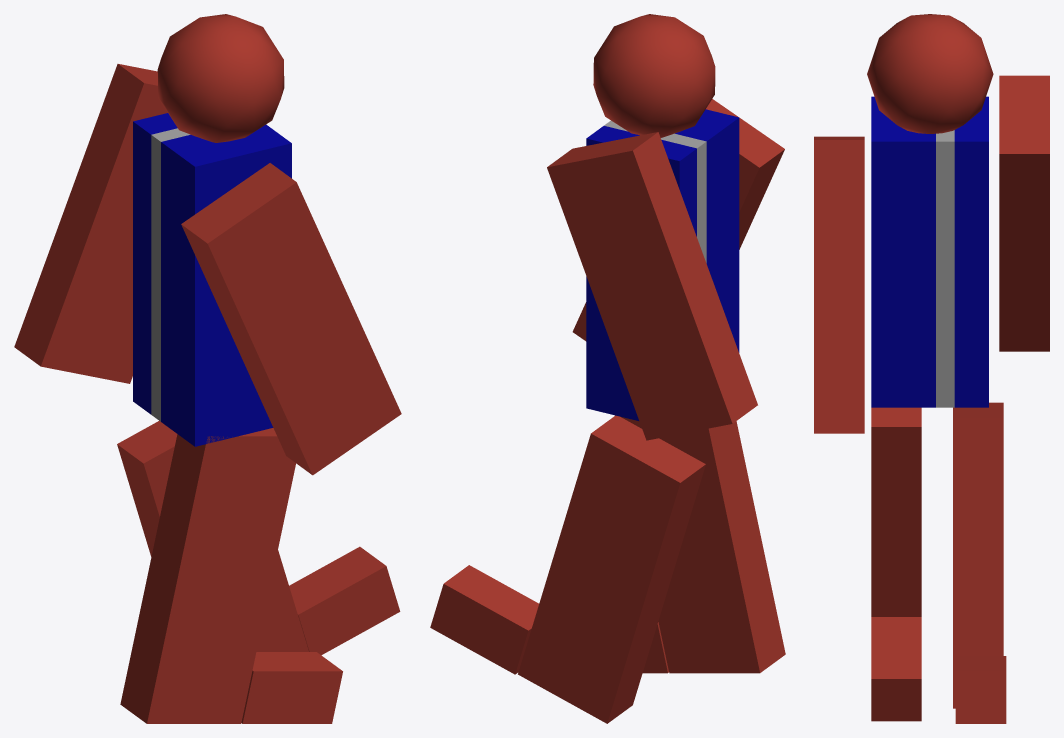
File: player_000006.obj
3 views of the same model, side by side, from view 1: azimuth 30°, elevation 25°; view 2: azimuth 150°, elevation 25°; view 3: azimuth 270°, elevation 25° (orthographic). The views are drawn at different scales.
Visible parts, largest first — view 1: Cube.001, Cube.005, Cube, Cube.006, Icosphere, Cube.004, Cube.002, Cube.003; view 2: Cube.006, Cube.002, Cube.001, Cube, Icosphere, Cube.004, Cube.005, Cube.003; view 3: Cube, Cube.005, Cube.006, Cube.002, Icosphere, Cube.001, Cube.003, Cube.004.
Part boxes in pixels (left/top/right/bottom): Cube.001: left=120, top=428, right=295, bottom=723; Cube.005: left=181, top=163, right=401, bottom=475; Cube: left=133, top=113, right=291, bottom=446; Cube.006: left=14, top=64, right=167, bottom=383; Icosphere: left=157, top=14, right=284, bottom=142; Cube.004: left=289, top=546, right=400, bottom=655; Cube.002: left=117, top=421, right=308, bottom=651; Cube.003: left=241, top=652, right=342, bottom=723; Cube.006: left=547, top=132, right=757, bottom=440; Cube.002: left=518, top=415, right=705, bottom=723; Cube.001: left=620, top=416, right=785, bottom=673; Cube: left=586, top=109, right=739, bottom=420; Icosphere: left=593, top=14, right=715, bottom=137; Cube.004: left=430, top=565, right=538, bottom=674; Cube.005: left=572, top=99, right=784, bottom=341; Cube.003: left=642, top=622, right=668, bottom=673; Cube: left=871, top=96, right=988, bottom=407; Cube.005: left=814, top=136, right=864, bottom=433; Cube.006: left=999, top=75, right=1049, bottom=351; Cube.002: left=953, top=402, right=1003, bottom=708; Icosphere: left=867, top=14, right=993, bottom=133; Cube.001: left=871, top=407, right=921, bottom=616; Cube.003: left=871, top=617, right=921, bottom=721; Cube.004: left=955, top=656, right=1006, bottom=723.
Size of the model in its own units: 1.43 by 2.86 by 0.9137.
